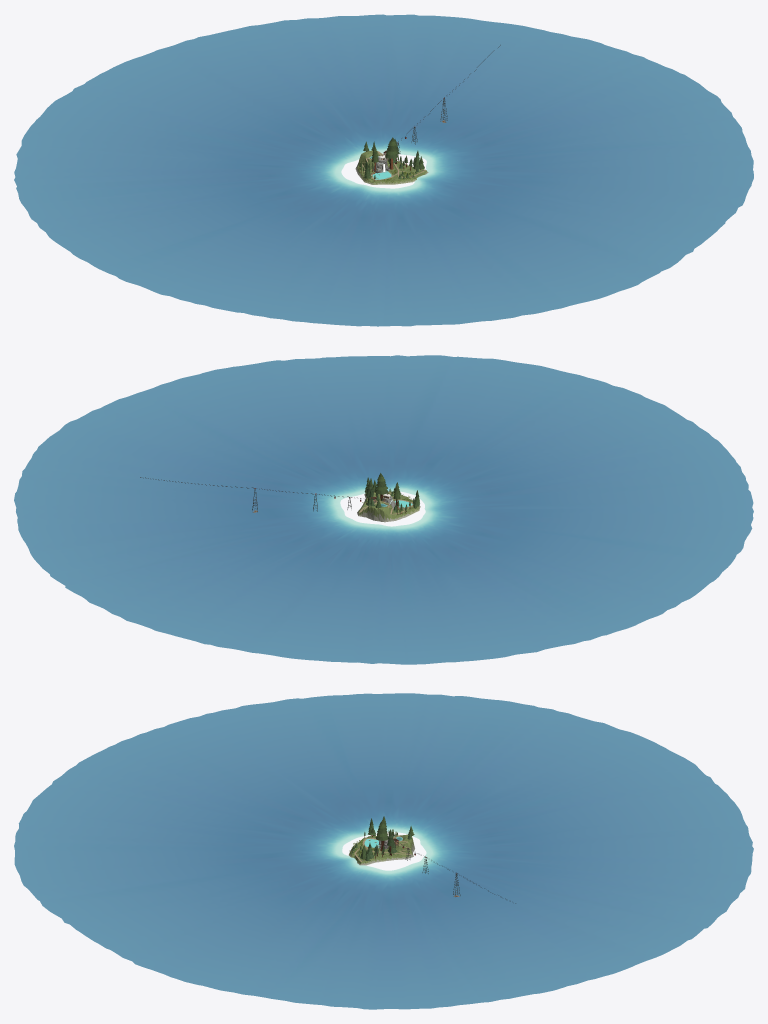
File: out-there-refined.glb
3 views of the same model, one above another, from view 1: azimuth 30°, elevation 25°; view 2: azimuth 150°, elevation 25°; view 3: azimuth 270°, elevation 25° (orthographic).
Visible parts, largest first — view 1: ocean, terrain; view 2: ocean, terrain; view 3: ocean, terrain.
Boxes of the visible parts, left/top/right/bottom form: ocean: left=14, top=14, right=753, bottom=326; terrain: left=355, top=150, right=428, bottom=184; ocean: left=14, top=355, right=753, bottom=664; terrain: left=357, top=491, right=420, bottom=522; ocean: left=14, top=693, right=753, bottom=1009; terrain: left=349, top=834, right=414, bottom=865.
Bounding box in the file's own units: 1930 × 117 × 1908.
